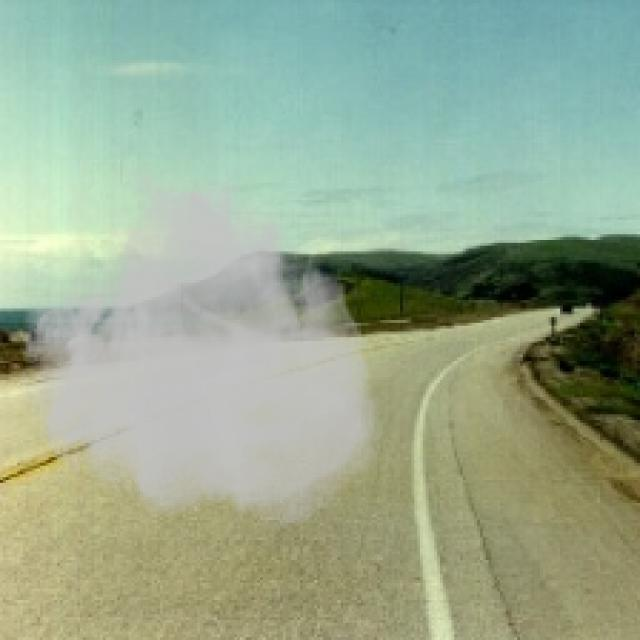Smoke: (17, 162, 386, 534)
